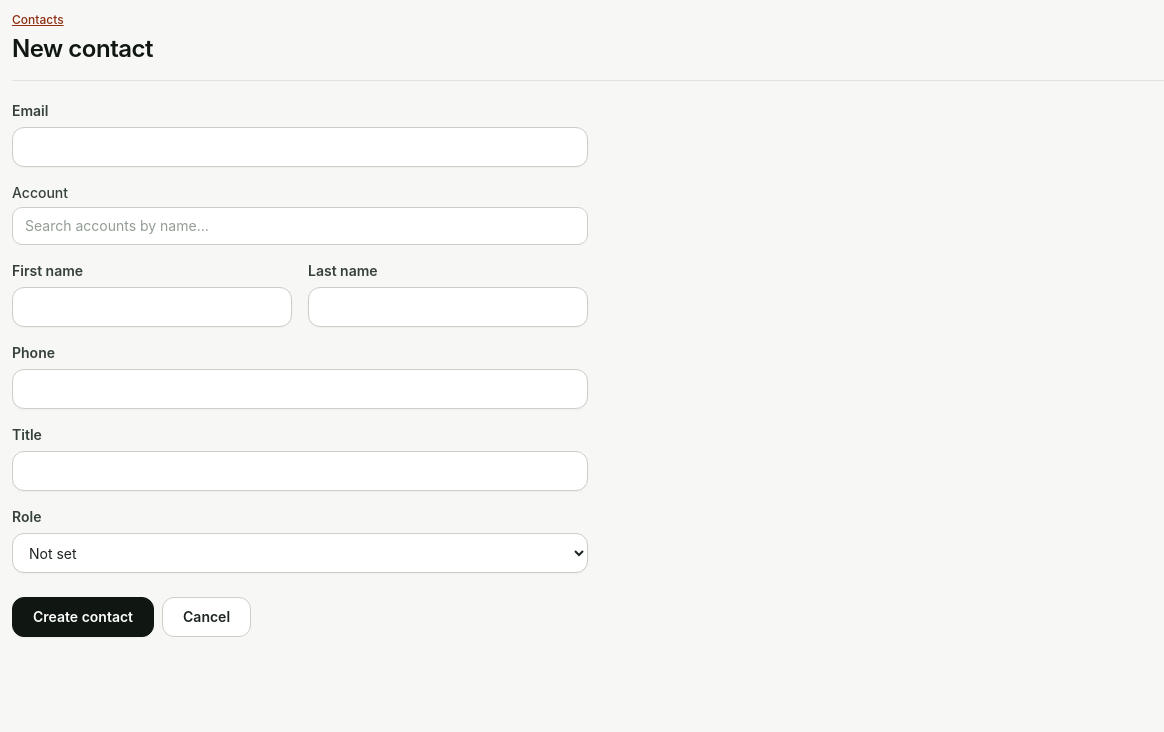
Test: ContactFormPage — create › creates a contact against an account chosen from the picker
Type "grace@acme.example" into the field labelled "Email".
click(300, 147); type("grace@acme.example")  # box [12, 127, 588, 167]
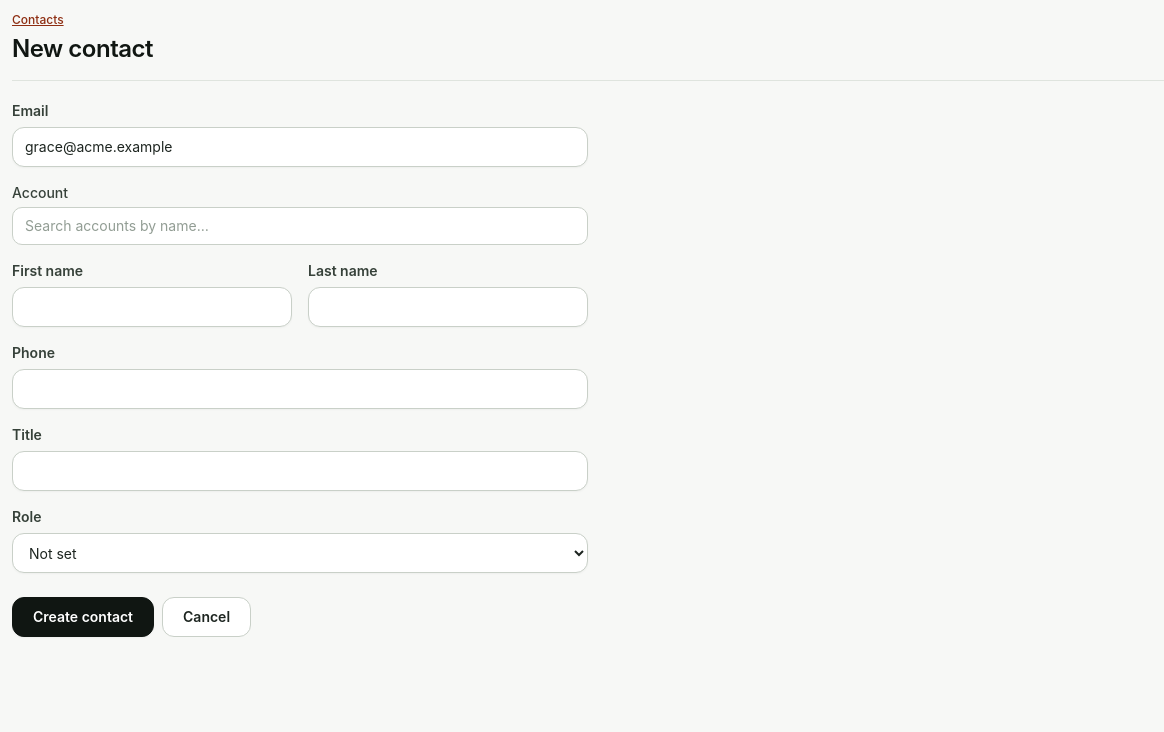
Type "Acme Corp" into the dropdown labelled "Account".
click(300, 226); type("Acme Corp")  # box [12, 207, 588, 245]
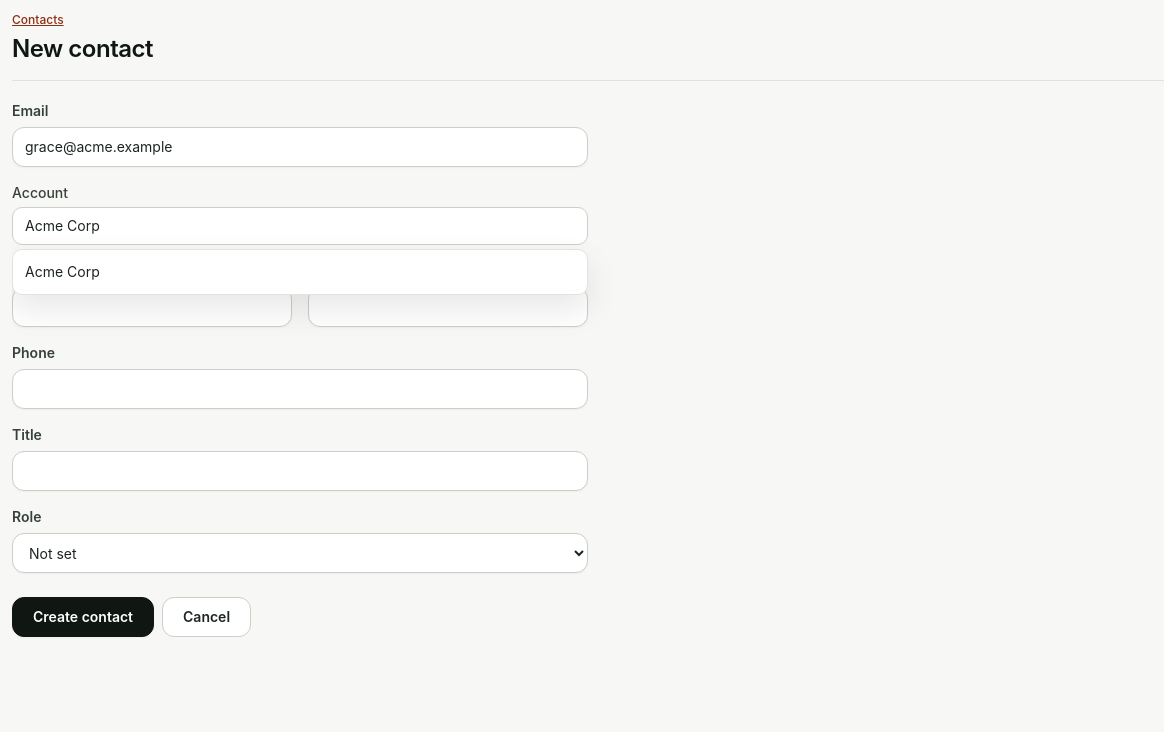
Click the button "Acme Corp".
click(62, 272)  # box [13, 254, 587, 290]
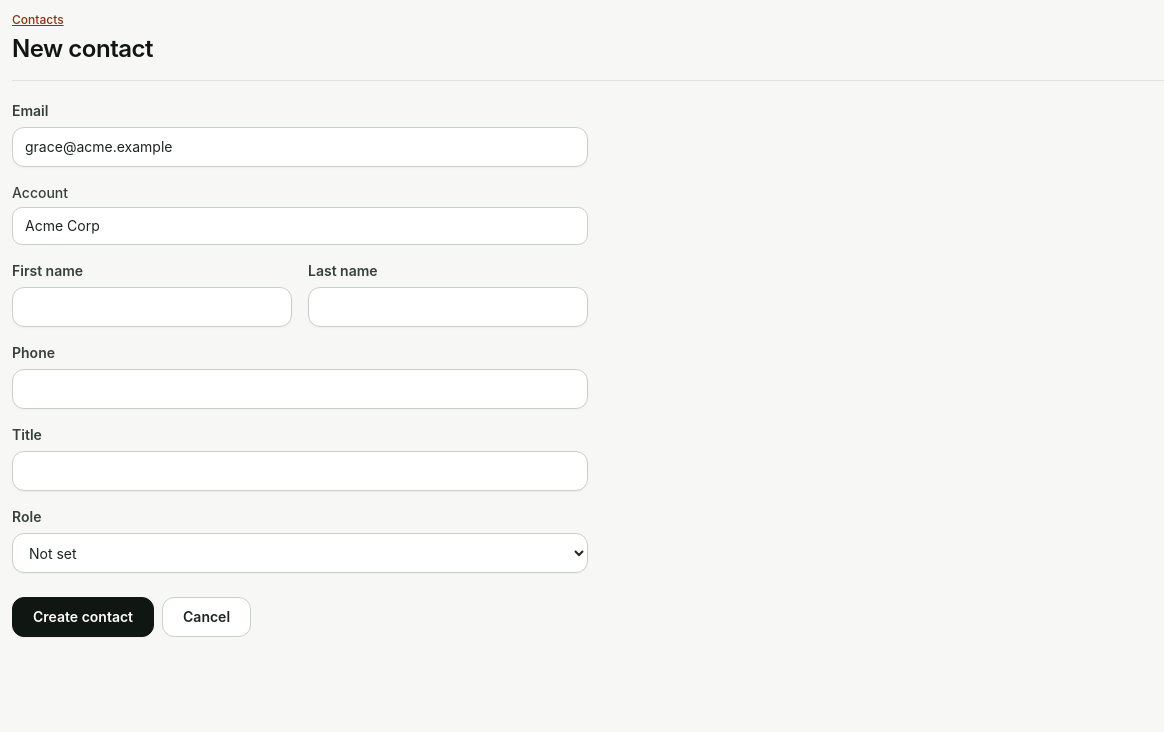
Type "Grace" into the field labelled "First name".
click(152, 307); type("Grace")  # box [12, 287, 292, 327]
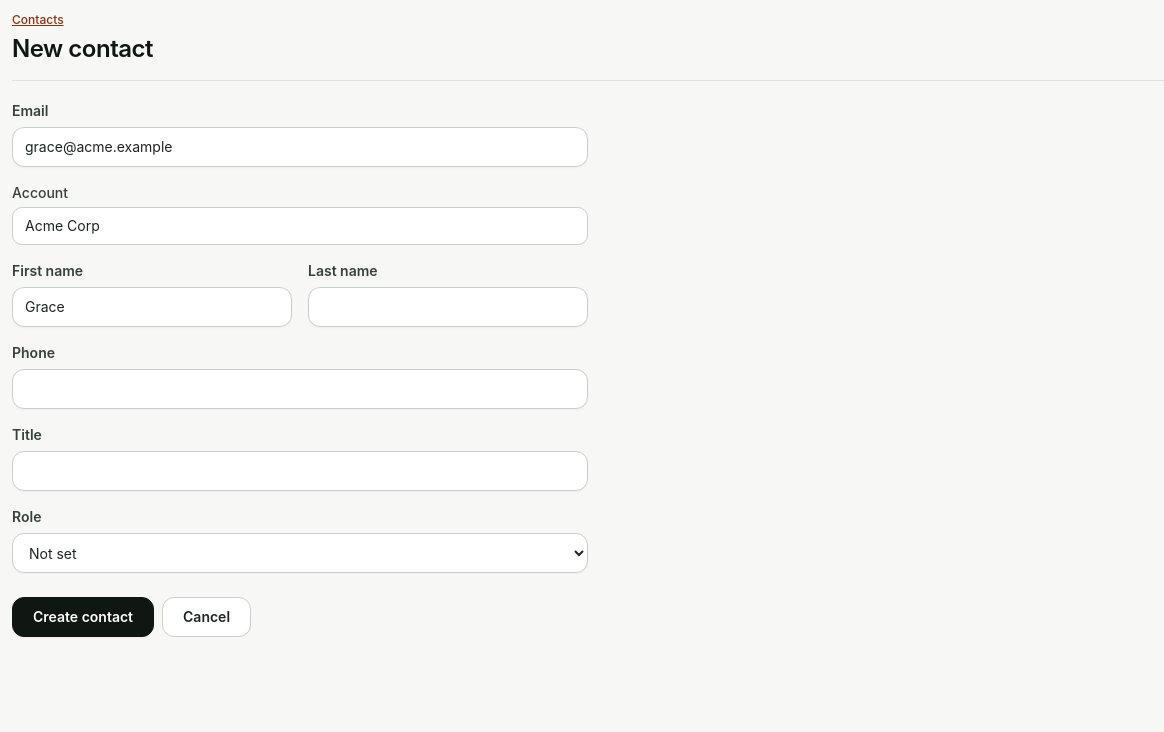
Select "Technical" in the dropdown labelled "Role" at (300, 553), box [12, 533, 588, 573]
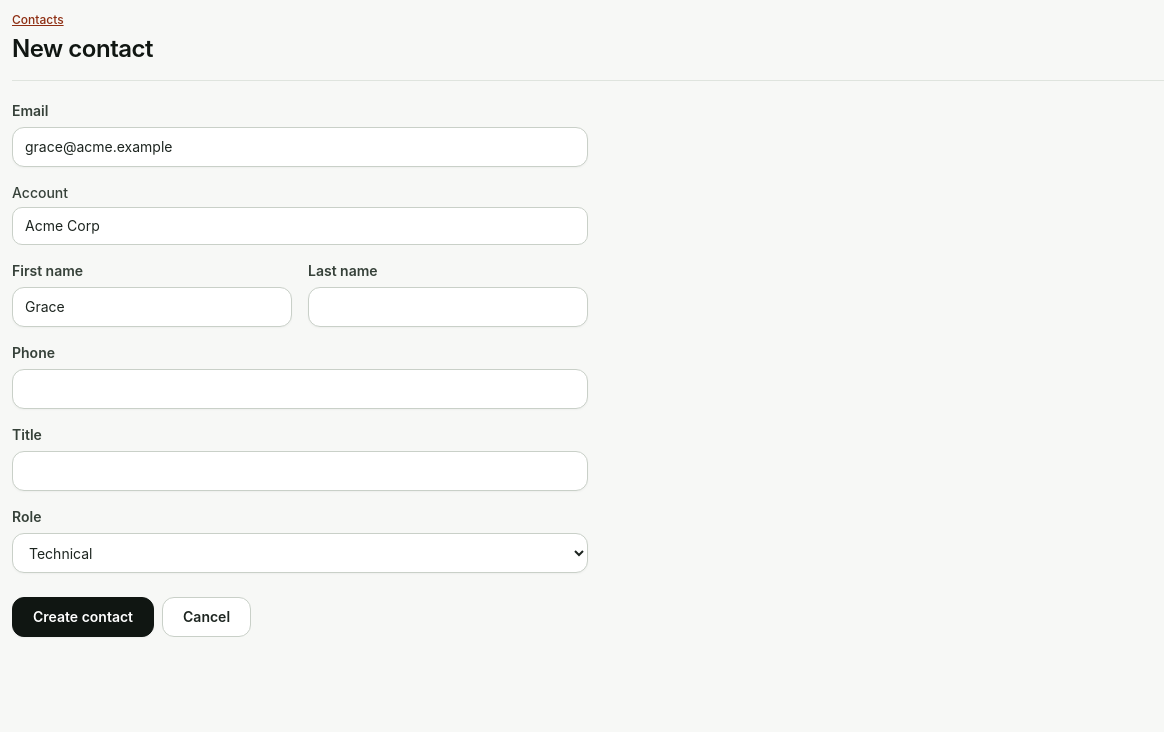
Click the button "Create contact".
click(83, 617)  # box [12, 597, 154, 637]
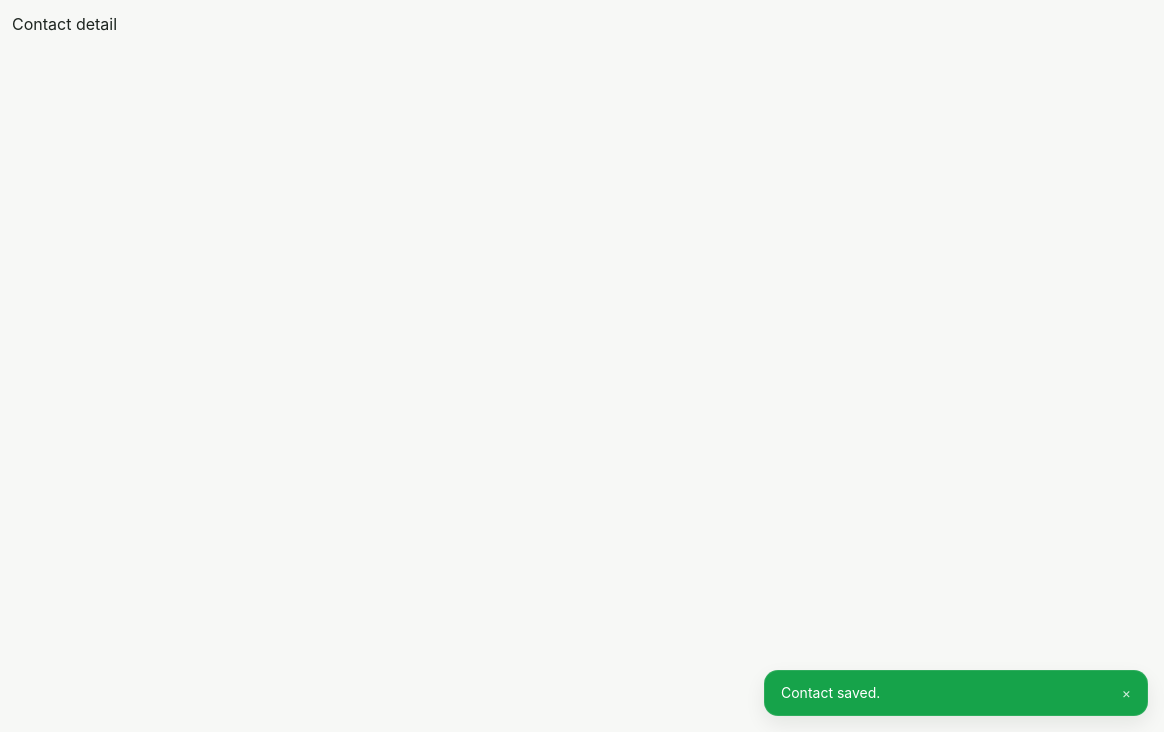
Result: the text "Contact detail" is shown at [12, 14, 117, 34]
